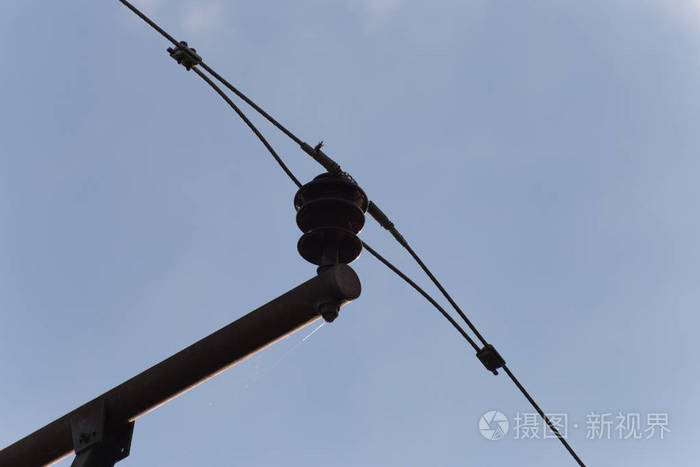insulator: (294, 175, 367, 268)
